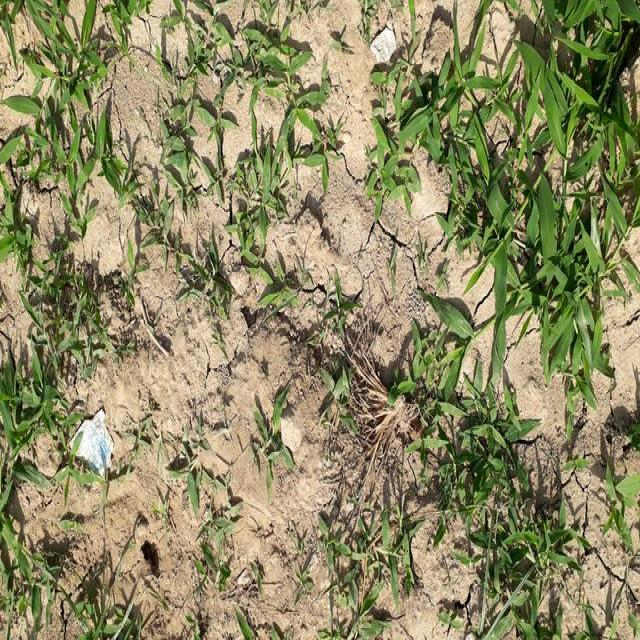weed: (380, 5, 640, 368), (6, 243, 132, 640), (444, 397, 574, 640), (0, 0, 114, 213)
